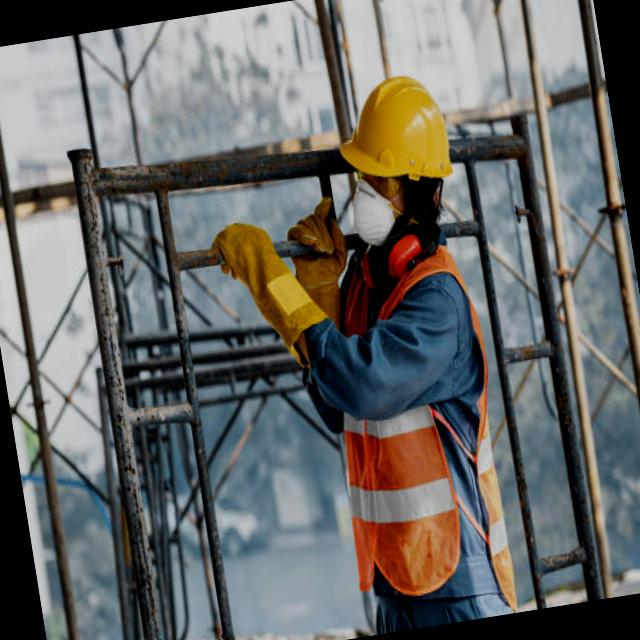helmet: (319, 66, 460, 202)
vest: (302, 230, 533, 637)
